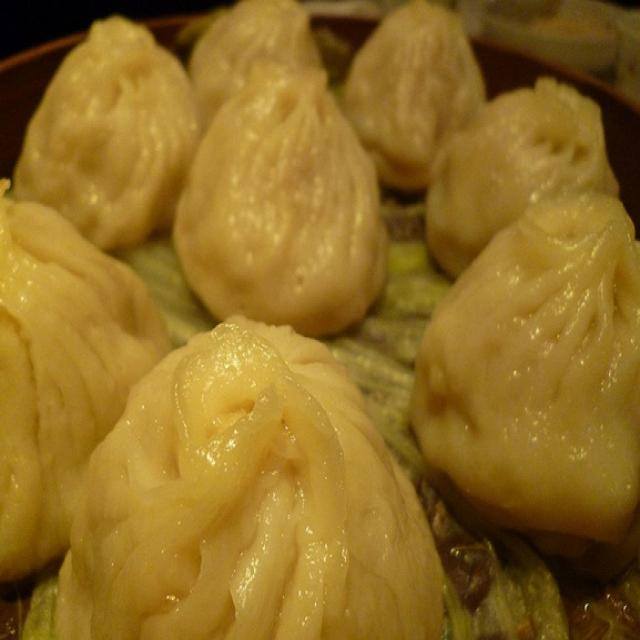带馅早点: (10, 10, 626, 612)
